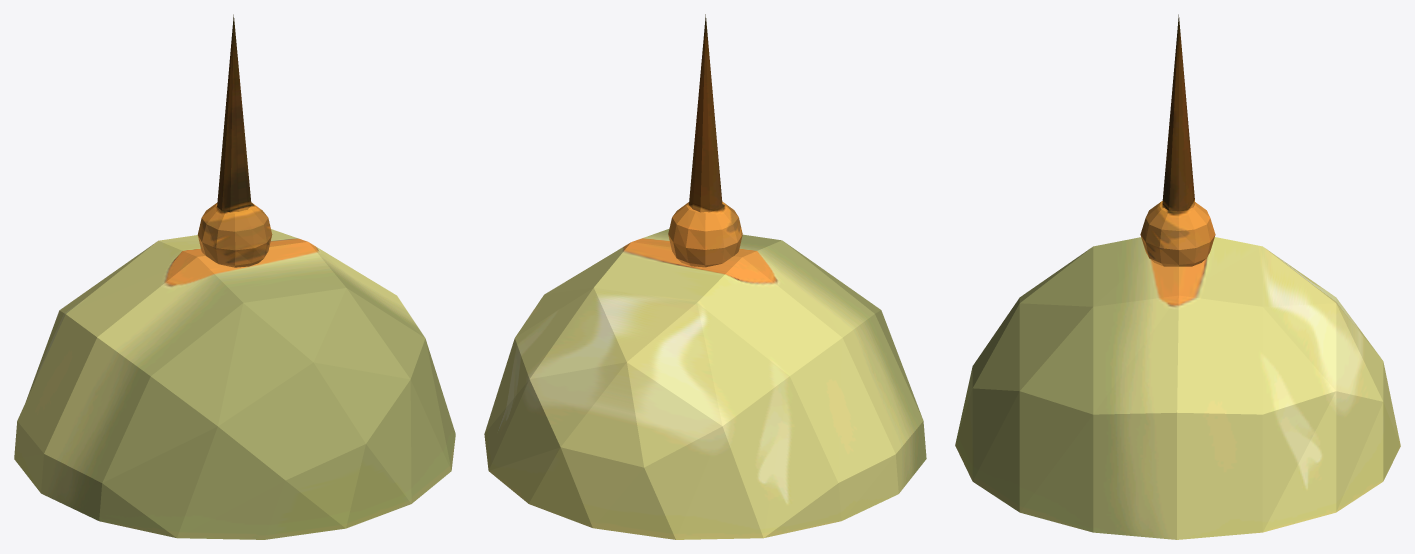
Rendered from Kipa.glb.
3 views of the same model, side by side, from view 1: azimuth 30°, elevation 25°; view 2: azimuth 150°, elevation 25°; view 3: azimuth 270°, elevation 25° (orthographic).
Visible parts, largest first — view 1: Kipa; view 2: Kipa; view 3: Kipa.
Boxes of the visible parts, left/top/right/bottom form: Kipa: left=14, top=14, right=455, bottom=539; Kipa: left=484, top=14, right=926, bottom=539; Kipa: left=955, top=14, right=1400, bottom=539.
Size of the model in its own units: 188 by 200 by 188.
1 material, 1 textured.
